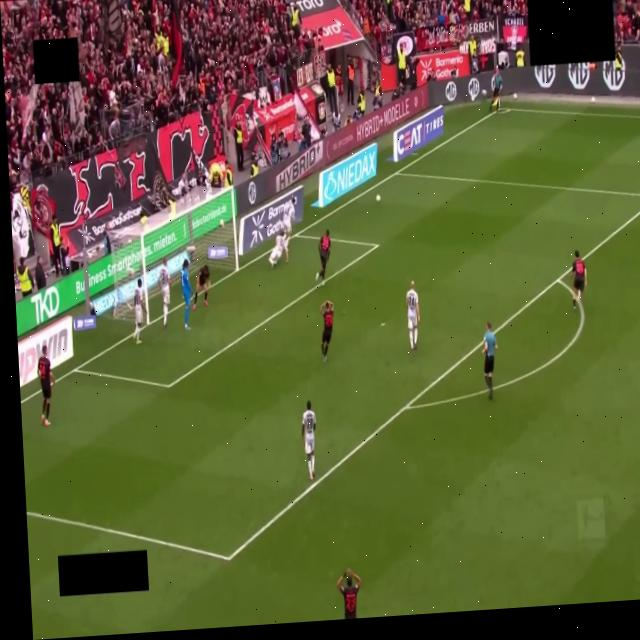ball: (376, 195, 381, 201)
player: (38, 345, 54, 426), (301, 401, 316, 481), (337, 570, 360, 618), (406, 282, 419, 349), (572, 251, 587, 309), (316, 230, 331, 284), (181, 260, 192, 330), (159, 259, 170, 327), (321, 301, 333, 362), (193, 266, 210, 309), (134, 280, 145, 344), (282, 197, 296, 244), (269, 235, 288, 266)
referee: (484, 322, 497, 400)
